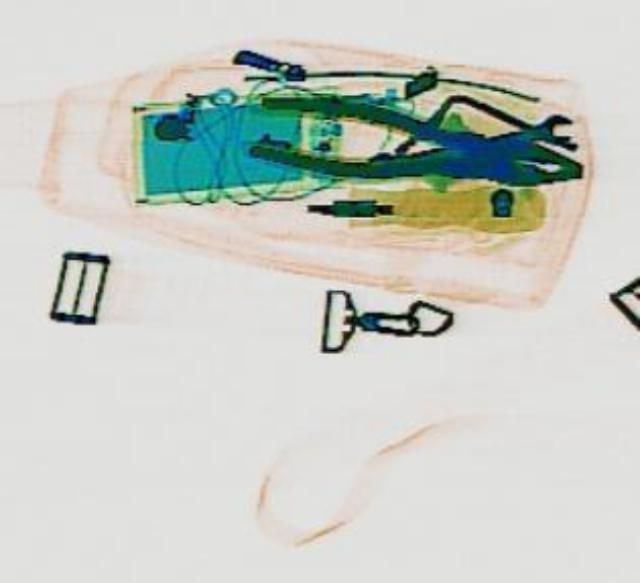Pliers: (244, 81, 586, 210)
